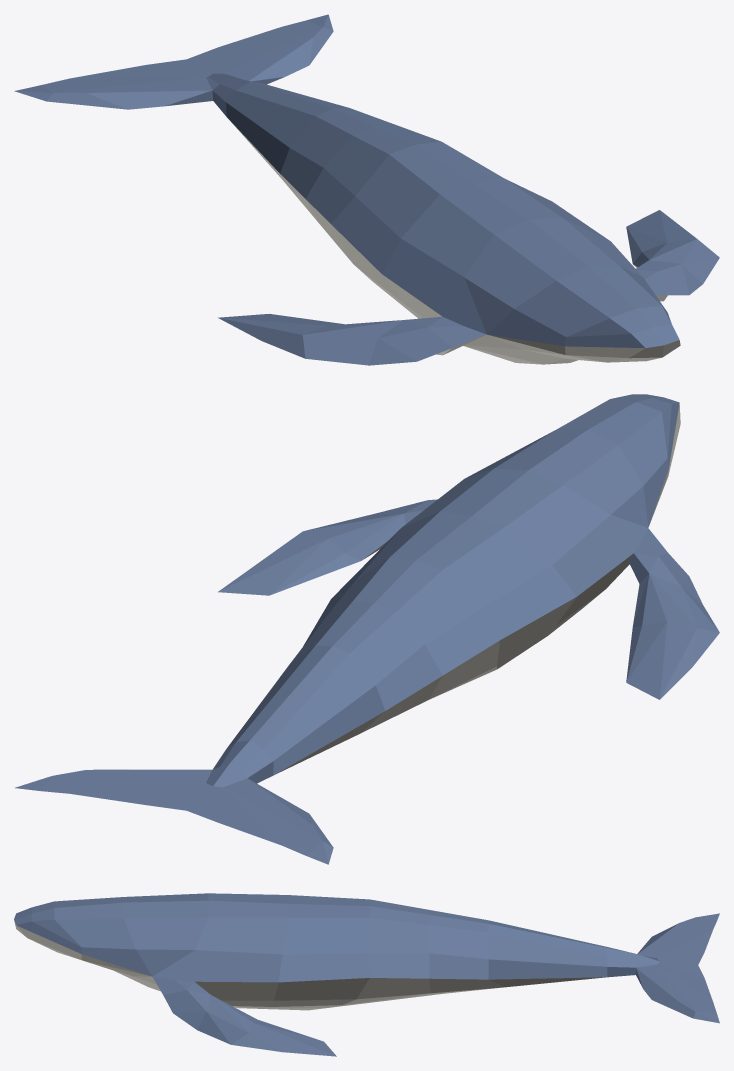
Rendered from whale.fbx.
3 views of the same model, one above another, from view 1: azimuth 30°, elevation 25°; view 2: azimuth 150°, elevation 25°; view 3: azimuth 270°, elevation 25° (orthographic). The views are drawn at different scales.
Parts seen in each view (by area): view 1: 立方体; view 2: 立方体; view 3: 立方体.
Part boxes in pixels (box(x1,y1,x2,y2)): 立方体: box(14, 14, 719, 365); 立方体: box(15, 394, 719, 864); 立方体: box(14, 893, 719, 1056).
Bounding box in the file's own units: 869 × 272 × 1677.
